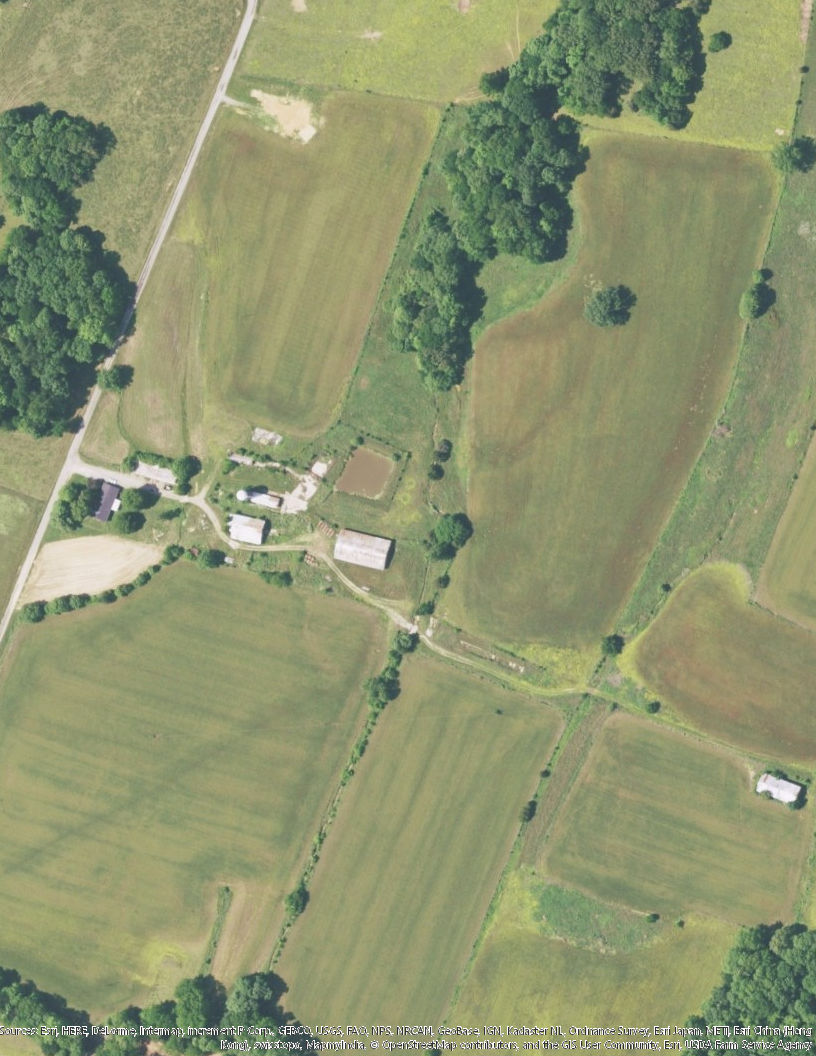cafo: (328, 525, 399, 574), (223, 513, 269, 547)
